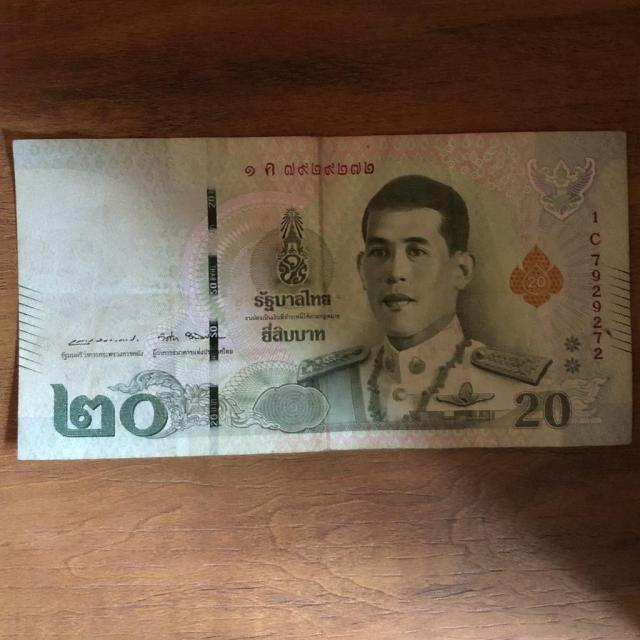THAI20: (9, 131, 634, 464)
